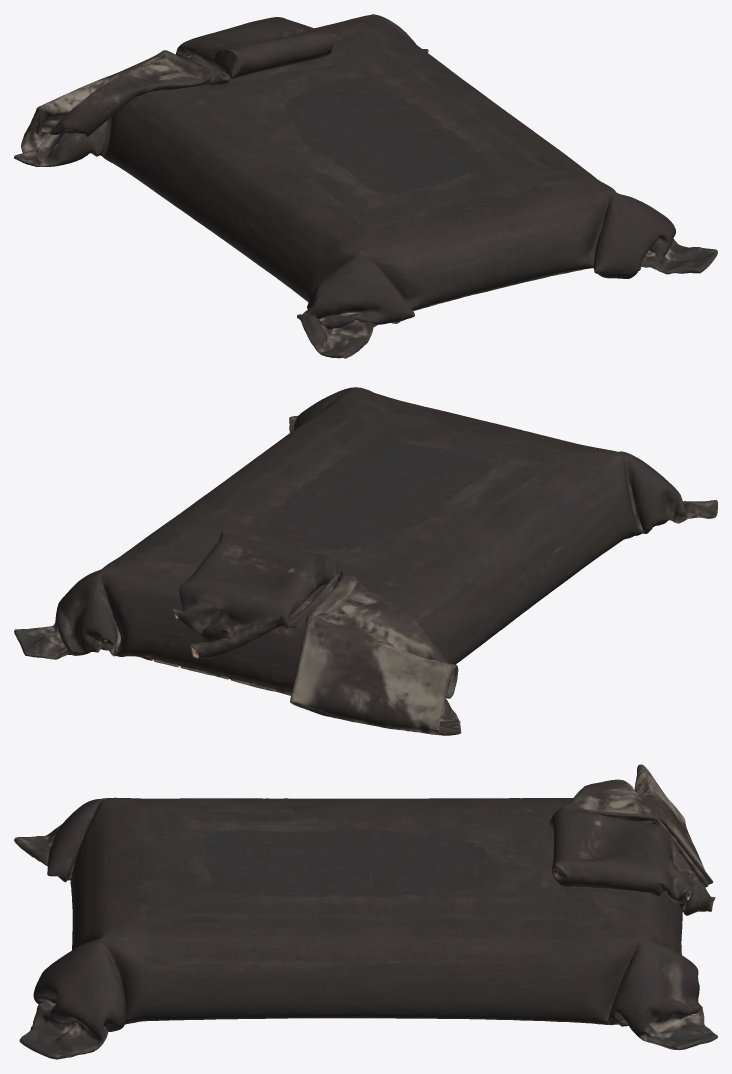
File: gen_832cca7ab650.glb
3 views of the same model, one above another, from view 1: azimuth 30°, elevation 25°; view 2: azimuth 150°, elevation 25°; view 3: azimuth 270°, elevation 25° (orthographic). The views are drawn at different scales.
Parts seen in each view (by area): view 1: world; view 2: world; view 3: world.
Boxes of the visible parts, x1,y1,x2,y2 form: world: (14, 14, 717, 358); world: (14, 387, 717, 735); world: (14, 764, 717, 1059).
Size of the model in its own units: 0.8012 by 0.1822 by 0.9991.
Materials: 1 (1 with a texture image).
